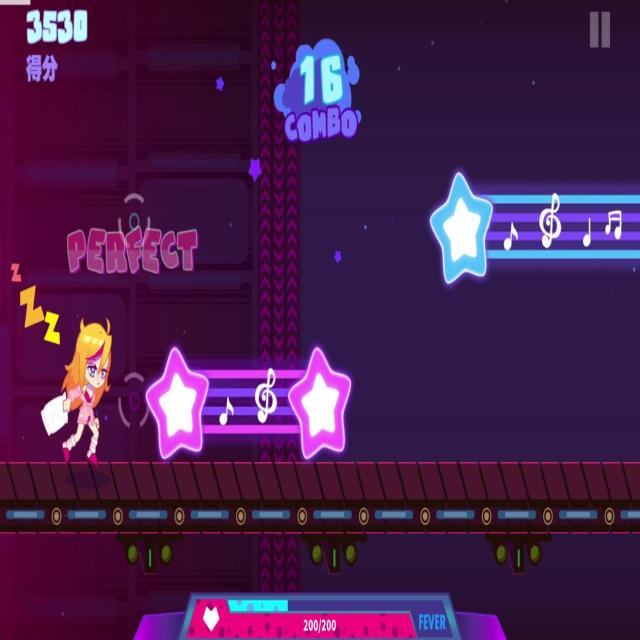hold: (426, 168, 640, 284), (143, 345, 355, 461)
